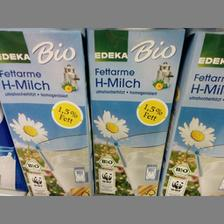Milch: (85, 27, 183, 195), (0, 27, 94, 195)
